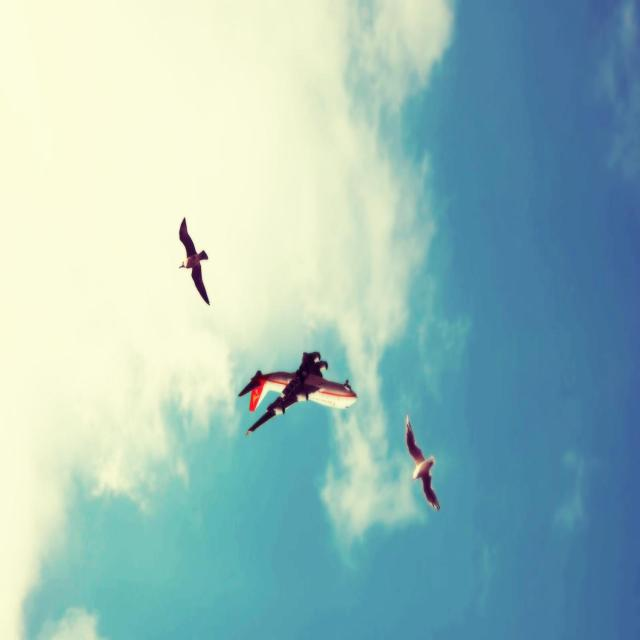airplane: (238, 350, 358, 436)
